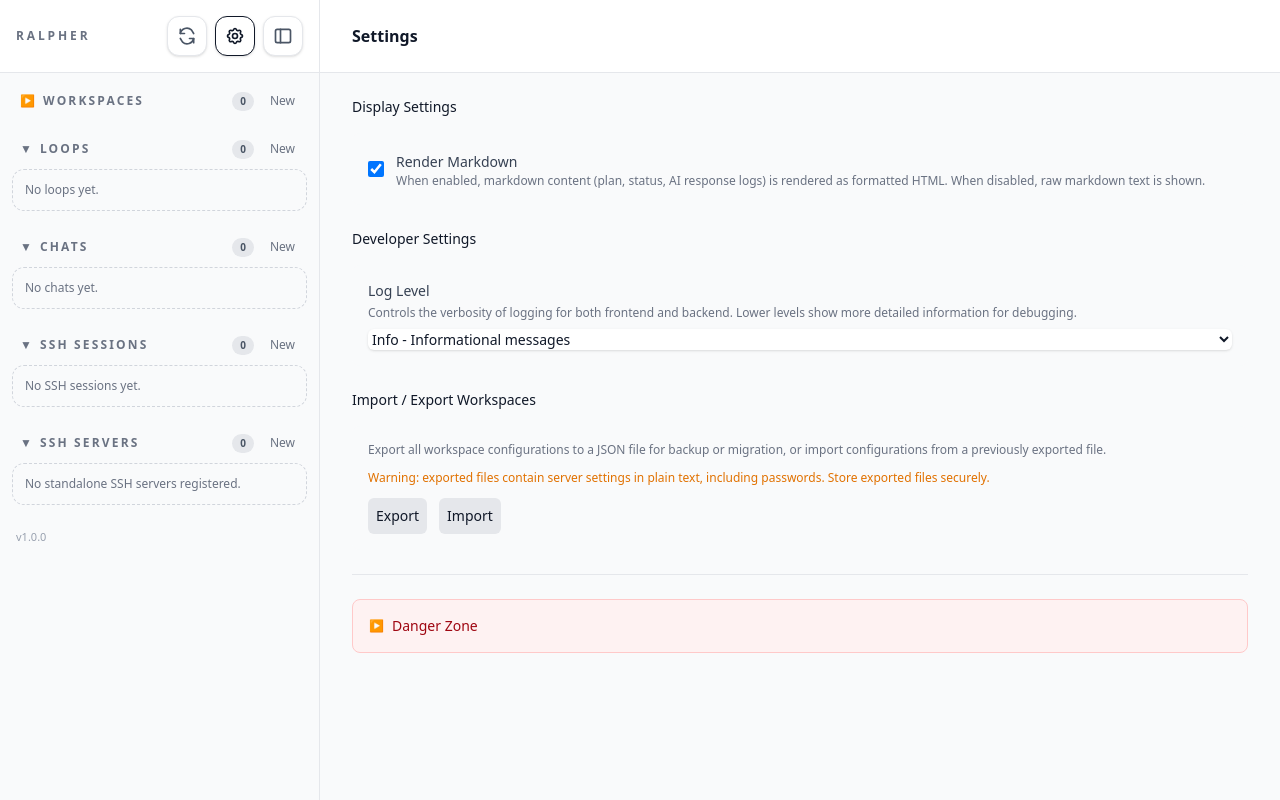
Test: App shell › header brand returns to the overview route
Expected: the heading "Settings" is shown, [352,24,418,48]
Click the button "Ralpher": (53, 36) [16,28,90,44]
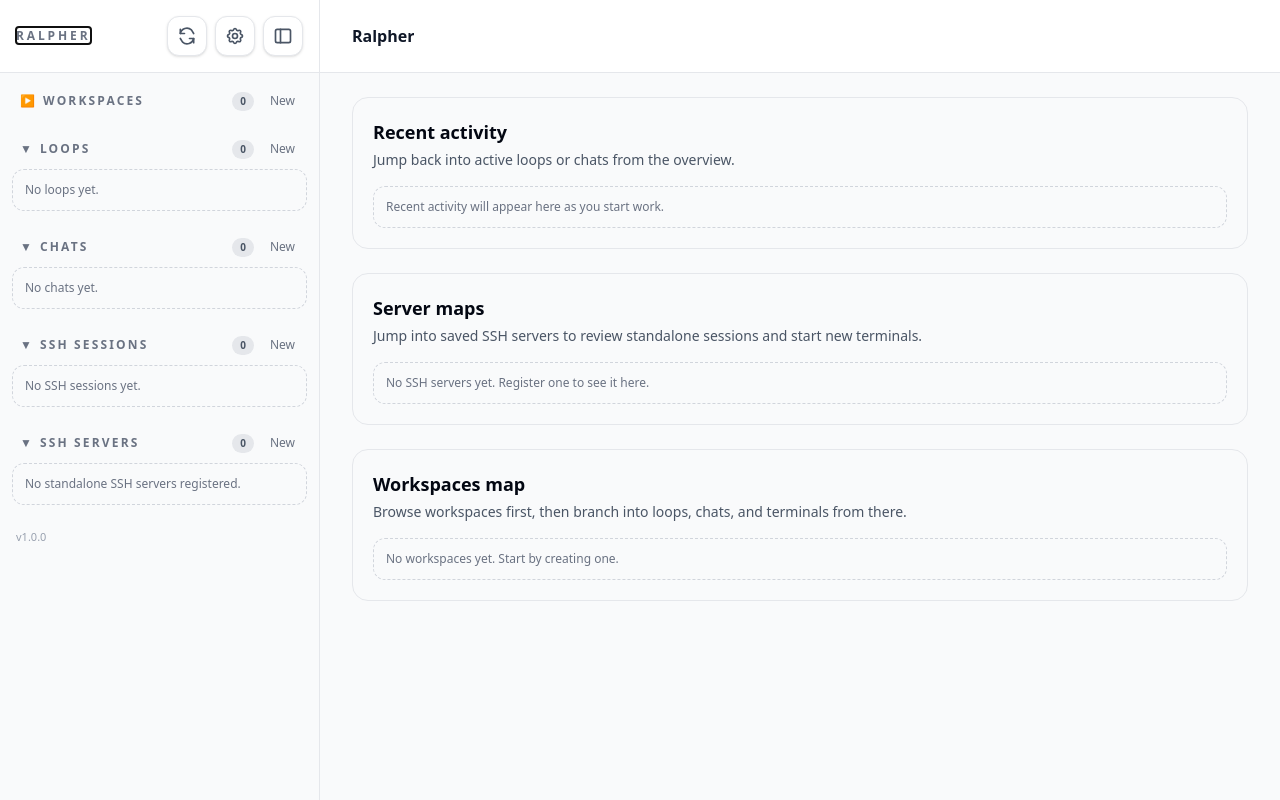
Expected: the heading "Ralpher" is shown, [352,24,414,48]
